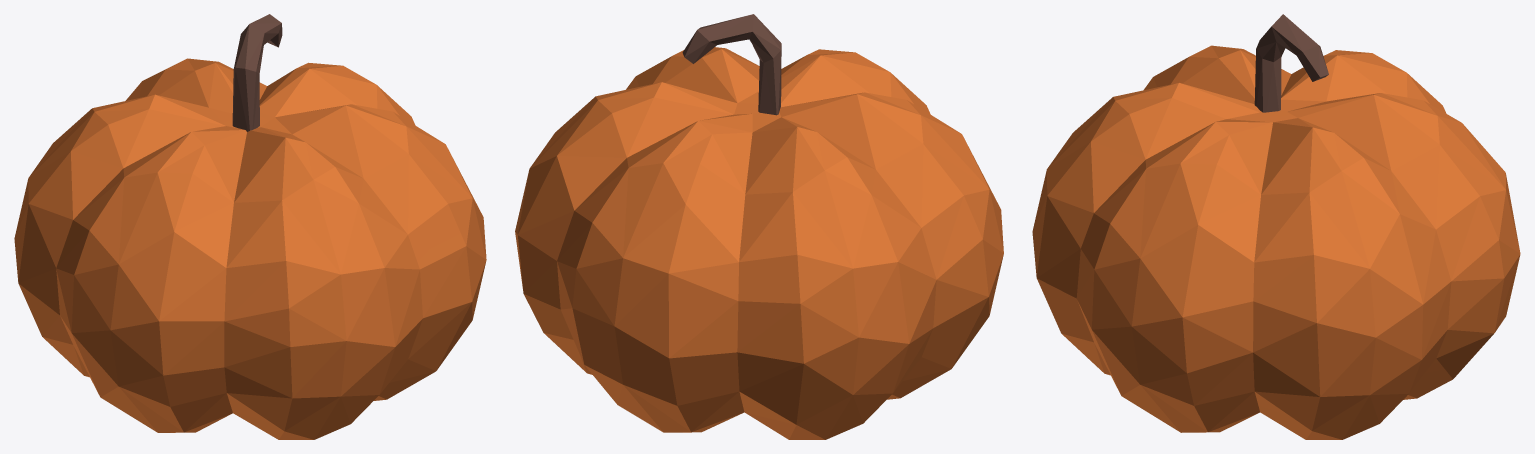
Rendered from pumpkin_plant.glb.
3 views of the same model, side by side, from view 1: azimuth 30°, elevation 25°; view 2: azimuth 150°, elevation 25°; view 3: azimuth 270°, elevation 25° (orthographic). The views are drawn at different scales.
Visible parts, largest first — view 1: Cube.009_Cube.004_M3_0.001; view 2: Cube.009_Cube.004_M3_0.001; view 3: Cube.009_Cube.004_M3_0.001.
Part boxes in pixels (x1,y1,x2,y2): Cube.009_Cube.004_M3_0.001: (14,14,486,439); Cube.009_Cube.004_M3_0.001: (515,14,1003,439); Cube.009_Cube.004_M3_0.001: (1032,14,1520,439).
Size of the model in its own units: 1.71 by 1.52 by 1.75.
1 material, 1 textured.
